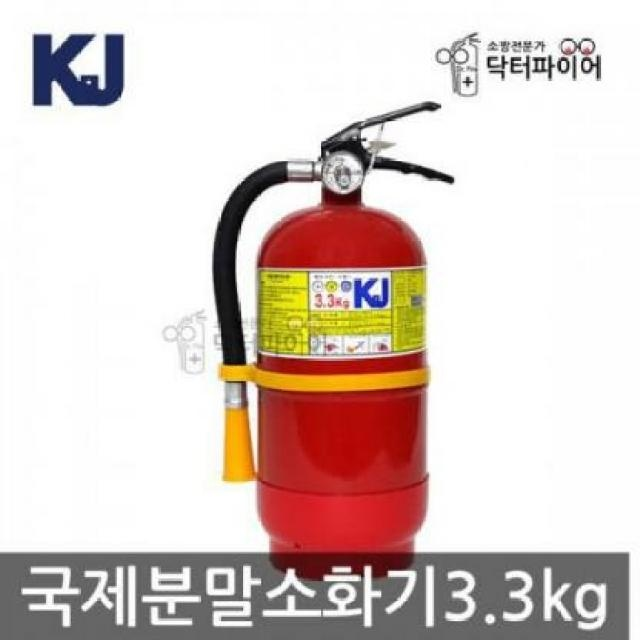fire extinguisher: (211, 101, 454, 581)
